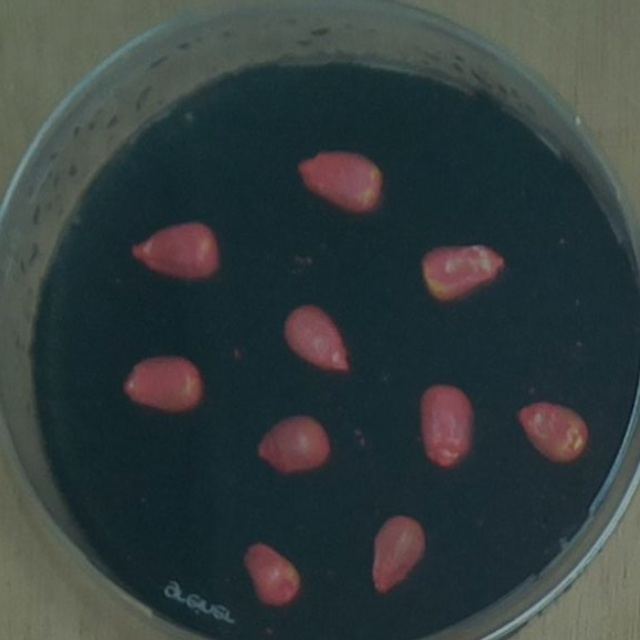Zea mays: (286, 140, 391, 220), (120, 213, 228, 289), (412, 235, 511, 311), (272, 295, 358, 380), (113, 347, 210, 421), (412, 374, 483, 475), (508, 393, 595, 472), (361, 507, 433, 601), (249, 405, 338, 480), (234, 530, 306, 614)
